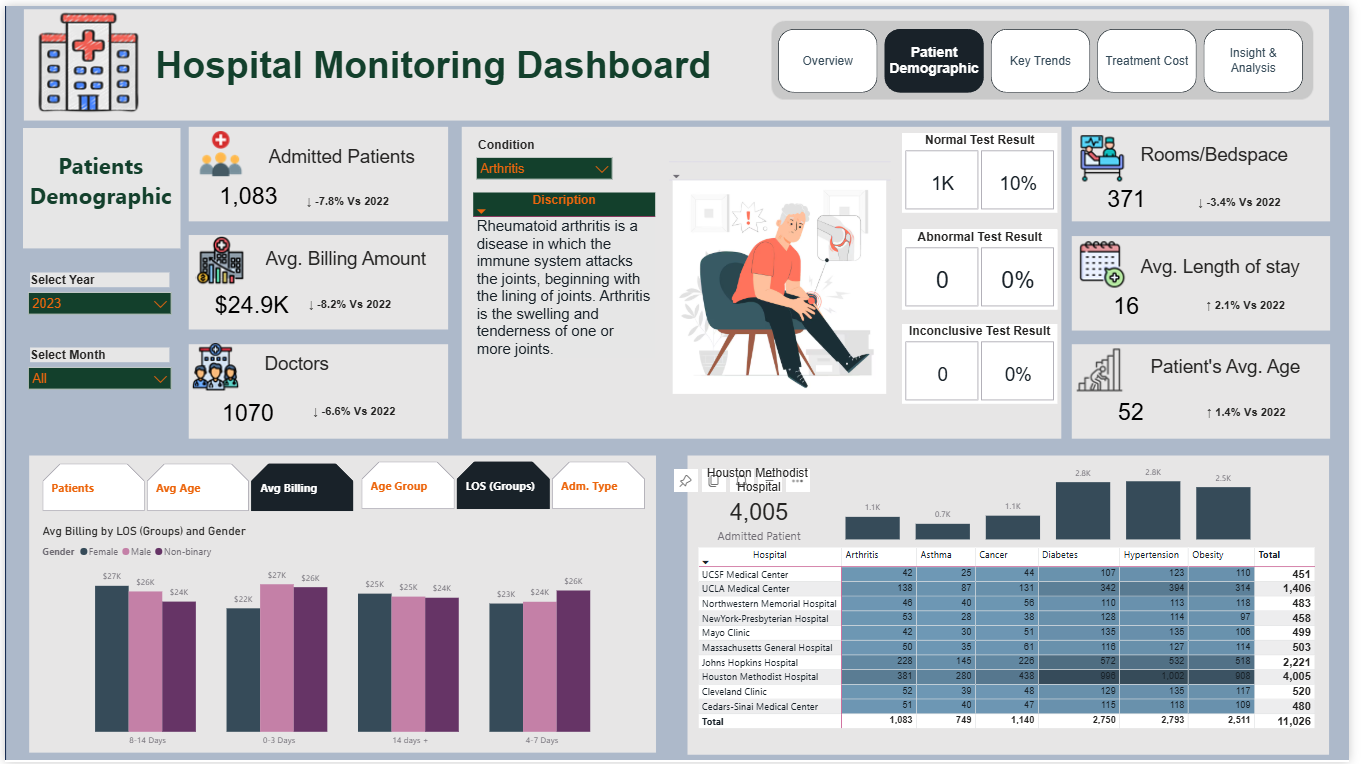

This screenshot's page, from the dashboard's own definition file:
{"tool":"powerbi","page":{"name":"Patient Demographic","canvas":[1920,1080],"ordinal":1},"visuals":[{"type":"card","fields":{"Values":["_DAXMeasure.Admitted Patient"]},"box":[290,242.1,115.7,58.5],"z":0},{"type":"textbox","box":[371.1,195.5,232.8,46.6],"z":1000},{"type":"textbox","box":[210.1,47.9,827.3,77.1],"z":2000},{"type":"slicer","fields":{"Values":["Dim_Date.Month Name"]},"box":[22.6,482.8,224.8,89.1],"z":3000},{"type":"slicer","fields":{"Values":["Dim_Condition.Medical Condition"]},"box":[662.4,183.5,215.5,83.8],"z":4000},{"type":"tableEx","fields":{"Values":["Min(Dim_Condition.Description)"]},"box":[663,261.6,280.8,297.3],"z":5000},{"type":"tableEx","fields":{"Values":["Min(Dim_Condition.Image URL)"]},"box":[943.4,217.7,340.2,349.2],"z":6000},{"type":"card","fields":{"Values":["_DAXMeasure.Admission YoY"]},"box":[405.7,262,167.6,38.6],"z":7000},{"type":"clusteredColumnChart","fields":{"Category":["HealthstatData.LOS (Groups)"],"Y":["_DAXMeasure.Average Billing Amount"],"Series":["HealthstatData.Gender"]},"box":[47.9,739.5,873.8,327.2],"z":8000},{"type":"advancedSlicerVisual","fields":{"Values":["Parameter.Parameter"]},"box":[504.1,645.2,417.8,78.1],"z":9000},{"type":"textbox","box":[367.1,341.8,255.4,49.2],"z":10000},{"type":"textbox","box":[365.8,490.8,220.8,49.2],"z":11000},{"type":"textbox","box":[1617.3,192.9,252.7,50.5],"z":12000},{"type":"textbox","box":[1617.3,347.1,239.4,63.8],"z":13000},{"type":"textbox","box":[1632,496.1,224.8,62.5],"z":14000},{"type":"card","fields":{"Values":["_DAXMeasure.Avg Billimg Amount"]},"box":[290,395,125,61.2],"z":15000},{"type":"card","fields":{"Values":["_DAXMeasure.Bill YoY"]},"box":[421.6,411,142.3,31.9],"z":16000},{"type":"card","fields":{"Values":["_DAXMeasure.Doctors"]},"box":[300.6,558.6,94.4,42.6],"z":17000},{"type":"card","fields":{"Values":["_DAXMeasure.Doctors YoY"]},"box":[424.3,563.9,149,30.6],"z":18000},{"type":"card","fields":{"Values":["_DAXMeasure.Total Rooms"]},"box":[1546.8,244.7,110.4,59.9],"z":19000},{"type":"card","fields":{"Values":["_DAXMeasure.Rooms YoY"]},"box":[1691.8,267.3,143.6,29.3],"z":20000},{"type":"card","fields":{"Values":["_DAXMeasure.Average LOS"]},"box":[1556.2,387,91.8,81.1],"z":21000},{"type":"card","fields":{"Values":["_DAXMeasure.Avg. Los YoY"]},"box":[1703.8,411,135.7,34.6],"z":22000},{"type":"card","fields":{"Values":["_DAXMeasure.Avg Age"]},"box":[1560.1,540,97.1,77.1],"z":23000},{"type":"card","fields":{"Values":["_DAXMeasure.Average Age YoY"]},"box":[1707.8,566.6,131.7,25.3],"z":24000},{"type":"advancedSlicerVisual","fields":{"Values":["Parameter 3.Parameter"]},"box":[47.9,647.9,456.2,78.1],"z":25000},{"type":"cardVisual","title":"Normal Test Result","fields":{"Data":["_DAXMeasure.Normal Result","_DAXMeasure.% Of Normal Result"]},"box":[1280.8,180.9,222.1,114.4],"z":26000},{"type":"cardVisual","title":"Abnormal Test Result","fields":{"Data":["_DAXMeasure.Abnormal Result","_DAXMeasure.% Of Abnormal Result"]},"box":[1280.8,317.9,222.1,114.4],"z":27000},{"type":"cardVisual","title":"Inconclusive Test Result","fields":{"Data":["_DAXMeasure.Inconclusive Result","_DAXMeasure.% Of Inconclusive Result"]},"box":[1280.8,454.9,222.1,114.4],"z":28000},{"type":"pivotTable","fields":{"Rows":["HealthstatData.Hospital"],"Columns":["Dim_Condition.Medical Condition"],"Values":["_DAXMeasure.Admitted Patient"]},"box":[985.6,768.8,916.4,297.9],"z":29000},{"type":"cardVisual","title":"Abnormal Test Result","fields":{"Data":["_DAXMeasure.Abnormal Result","_DAXMeasure.% Of Abnormal Result"]},"box":[1280.8,320.5,222.1,114.4],"z":30000},{"type":"clusteredColumnChart","fields":{"Category":["Dim_Condition.Medical Condition"],"Y":["_DAXMeasure.Admitted Patient"]},"box":[1195,645,591.2,123.8],"z":31000},{"type":"card","fields":{"Values":["_DAXMeasure.Admitted Patient"]},"box":[1002.5,696.2,148.8,72.5],"z":32000},{"type":"card","fields":{"Values":["Min(HealthstatData.Hospital)"]},"box":[985,647.5,182.5,60],"z":33000},{"type":"pageNavigator","box":[1103.9,33.3,752.8,91.8],"z":34000},{"type":"slicer","fields":{"Values":["Dim_Date.Year"]},"box":[22.6,375.1,224.8,81.1],"z":35000},{"type":"shape","box":[25.7,173.9,225.3,172.3],"z":36000},{"type":"textbox","box":[25.7,199.6,222.2,117.9],"z":37000}]}

Visuals, with their boxes in screenshot pixels (x1, y1, x2, y2), scaled from the page's 1920x1080 canvas onto the 1362x764 screenshot:
card - _DAXMeasure.Admitted Patient: <bbox>206, 171, 288, 213</bbox>
textbox: <bbox>263, 138, 428, 171</bbox>
textbox: <bbox>149, 34, 736, 88</bbox>
slicer - Dim_Date.Month Name: <bbox>16, 342, 175, 405</bbox>
slicer - Dim_Condition.Medical Condition: <bbox>470, 130, 623, 189</bbox>
tableEx - Min(Dim_Condition.Description): <bbox>470, 185, 670, 395</bbox>
tableEx - Min(Dim_Condition.Image URL): <bbox>669, 154, 911, 401</bbox>
card - _DAXMeasure.Admission YoY: <bbox>288, 185, 407, 213</bbox>
clusteredColumnChart - HealthstatData.LOS (Groups) x _DAXMeasure.Average Billing Amount: <bbox>34, 523, 654, 755</bbox>
advancedSlicerVisual - Parameter.Parameter: <bbox>358, 456, 654, 512</bbox>
textbox: <bbox>260, 242, 442, 277</bbox>
textbox: <bbox>259, 347, 416, 382</bbox>
textbox: <bbox>1147, 136, 1327, 172</bbox>
textbox: <bbox>1147, 246, 1317, 291</bbox>
textbox: <bbox>1158, 351, 1317, 395</bbox>
card - _DAXMeasure.Avg Billimg Amount: <bbox>206, 279, 294, 323</bbox>
card - _DAXMeasure.Bill YoY: <bbox>299, 291, 400, 313</bbox>
card - _DAXMeasure.Doctors: <bbox>213, 395, 280, 425</bbox>
card - _DAXMeasure.Doctors YoY: <bbox>301, 399, 407, 421</bbox>
card - _DAXMeasure.Total Rooms: <bbox>1097, 173, 1176, 215</bbox>
card - _DAXMeasure.Rooms YoY: <bbox>1200, 189, 1302, 210</bbox>
card - _DAXMeasure.Average LOS: <bbox>1104, 274, 1169, 331</bbox>
card - _DAXMeasure.Avg. Los YoY: <bbox>1209, 291, 1305, 315</bbox>
card - _DAXMeasure.Avg Age: <bbox>1107, 382, 1176, 437</bbox>
card - _DAXMeasure.Average Age YoY: <bbox>1211, 401, 1305, 419</bbox>
advancedSlicerVisual - Parameter 3.Parameter: <bbox>34, 458, 358, 514</bbox>
"Normal Test Result" cardVisual: <bbox>909, 128, 1066, 209</bbox>
"Abnormal Test Result" cardVisual: <bbox>909, 225, 1066, 306</bbox>
"Inconclusive Test Result" cardVisual: <bbox>909, 322, 1066, 403</bbox>
pivotTable - HealthstatData.Hospital x Dim_Condition.Medical Condition: <bbox>699, 544, 1349, 755</bbox>
"Abnormal Test Result" cardVisual: <bbox>909, 227, 1066, 308</bbox>
clusteredColumnChart - Dim_Condition.Medical Condition x _DAXMeasure.Admitted Patient: <bbox>848, 456, 1267, 544</bbox>
card - _DAXMeasure.Admitted Patient: <bbox>711, 492, 817, 544</bbox>
card - Min(HealthstatData.Hospital): <bbox>699, 458, 828, 500</bbox>
pageNavigator: <bbox>783, 24, 1317, 88</bbox>
slicer - Dim_Date.Year: <bbox>16, 265, 175, 323</bbox>
shape: <bbox>18, 123, 178, 245</bbox>
textbox: <bbox>18, 141, 176, 225</bbox>
